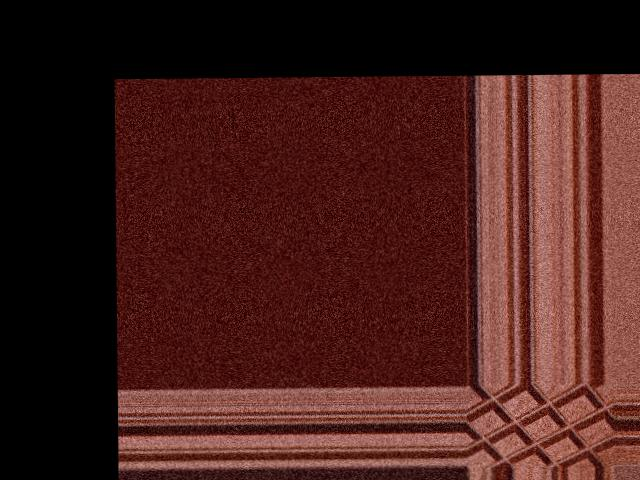chocolate: (470, 382, 614, 465)
